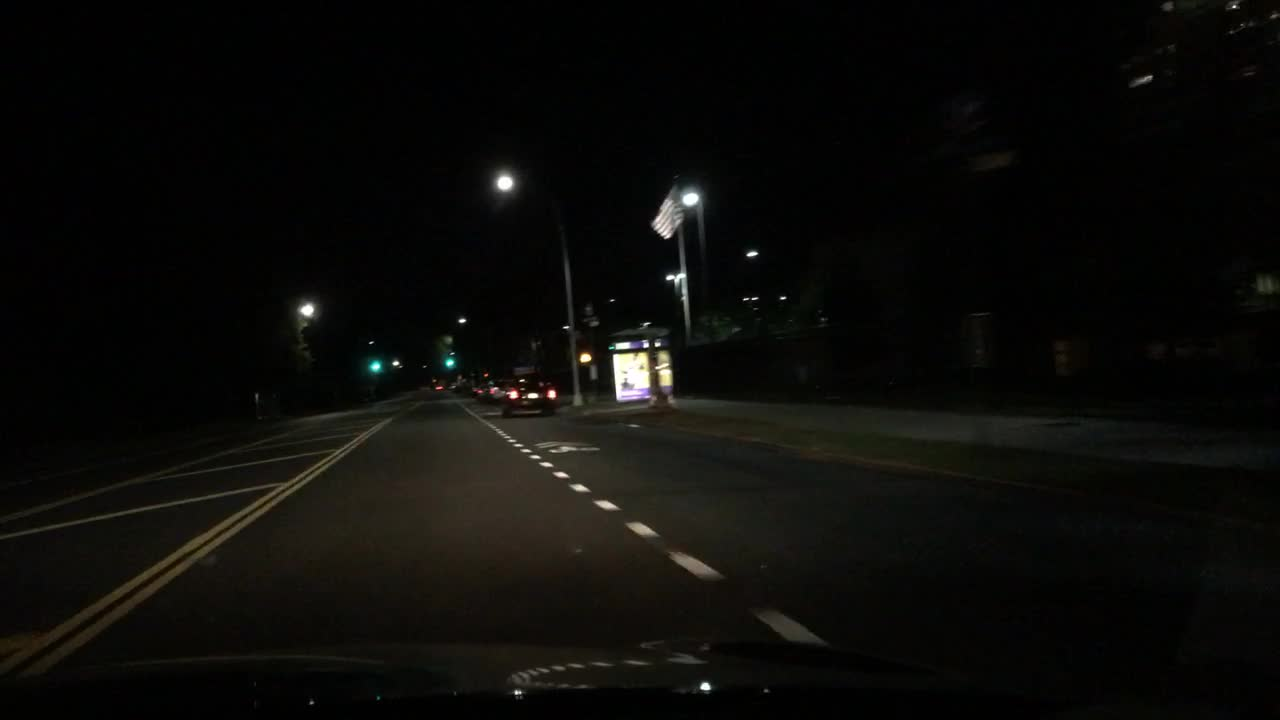car: (498, 372, 560, 420), (474, 375, 505, 404), (449, 379, 469, 394), (466, 376, 479, 396), (427, 377, 445, 391)
traffic light: (368, 359, 382, 371), (445, 357, 455, 367)
